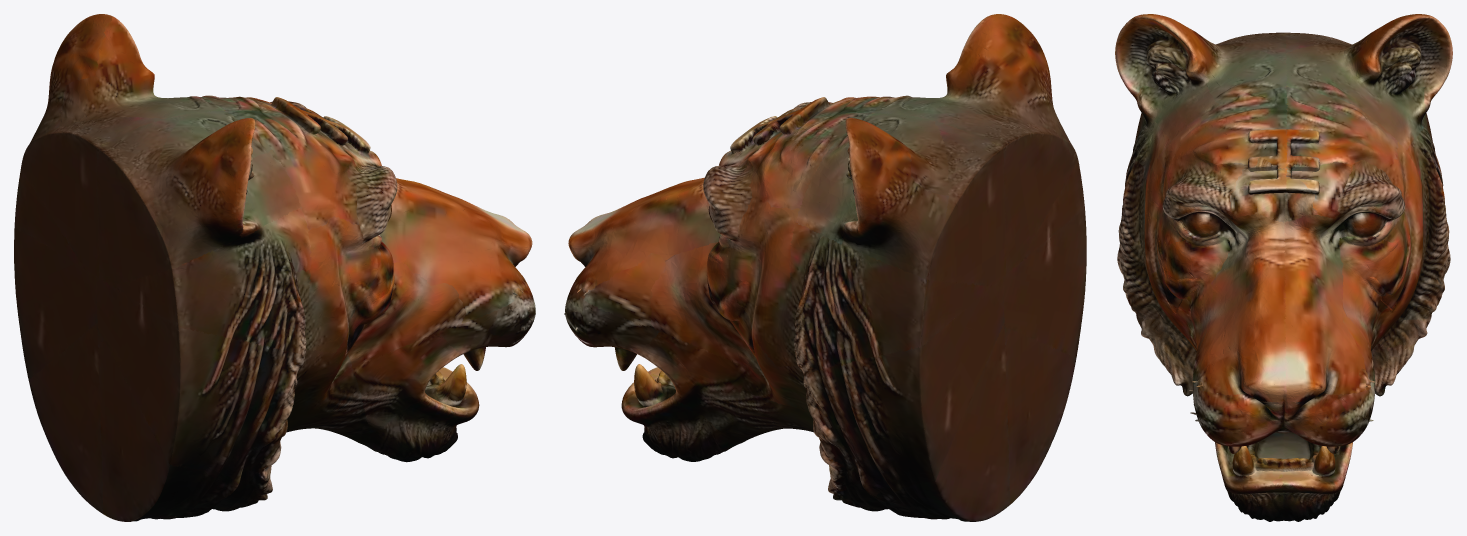
Rendered from tiger.glb.
3 views of the same model, side by side, from view 1: azimuth 30°, elevation 25°; view 2: azimuth 150°, elevation 25°; view 3: azimuth 270°, elevation 25° (orthographic). The views are drawn at different scales.
Parts seen in each view (by area): view 1: tripo_node_85c34efc-85f5-4a30-a4cc-3030f6c5cfbf; view 2: tripo_node_85c34efc-85f5-4a30-a4cc-3030f6c5cfbf; view 3: tripo_node_85c34efc-85f5-4a30-a4cc-3030f6c5cfbf.
Part boxes in pixels (left/top/right/bottom): tripo_node_85c34efc-85f5-4a30-a4cc-3030f6c5cfbf: left=14, top=14, right=535, bottom=521; tripo_node_85c34efc-85f5-4a30-a4cc-3030f6c5cfbf: left=564, top=14, right=1086, bottom=521; tripo_node_85c34efc-85f5-4a30-a4cc-3030f6c5cfbf: left=1115, top=14, right=1452, bottom=521.
Size of the model in its own units: 1 by 0.9774 by 0.7557.
Materials: 1 (1 with a texture image).
